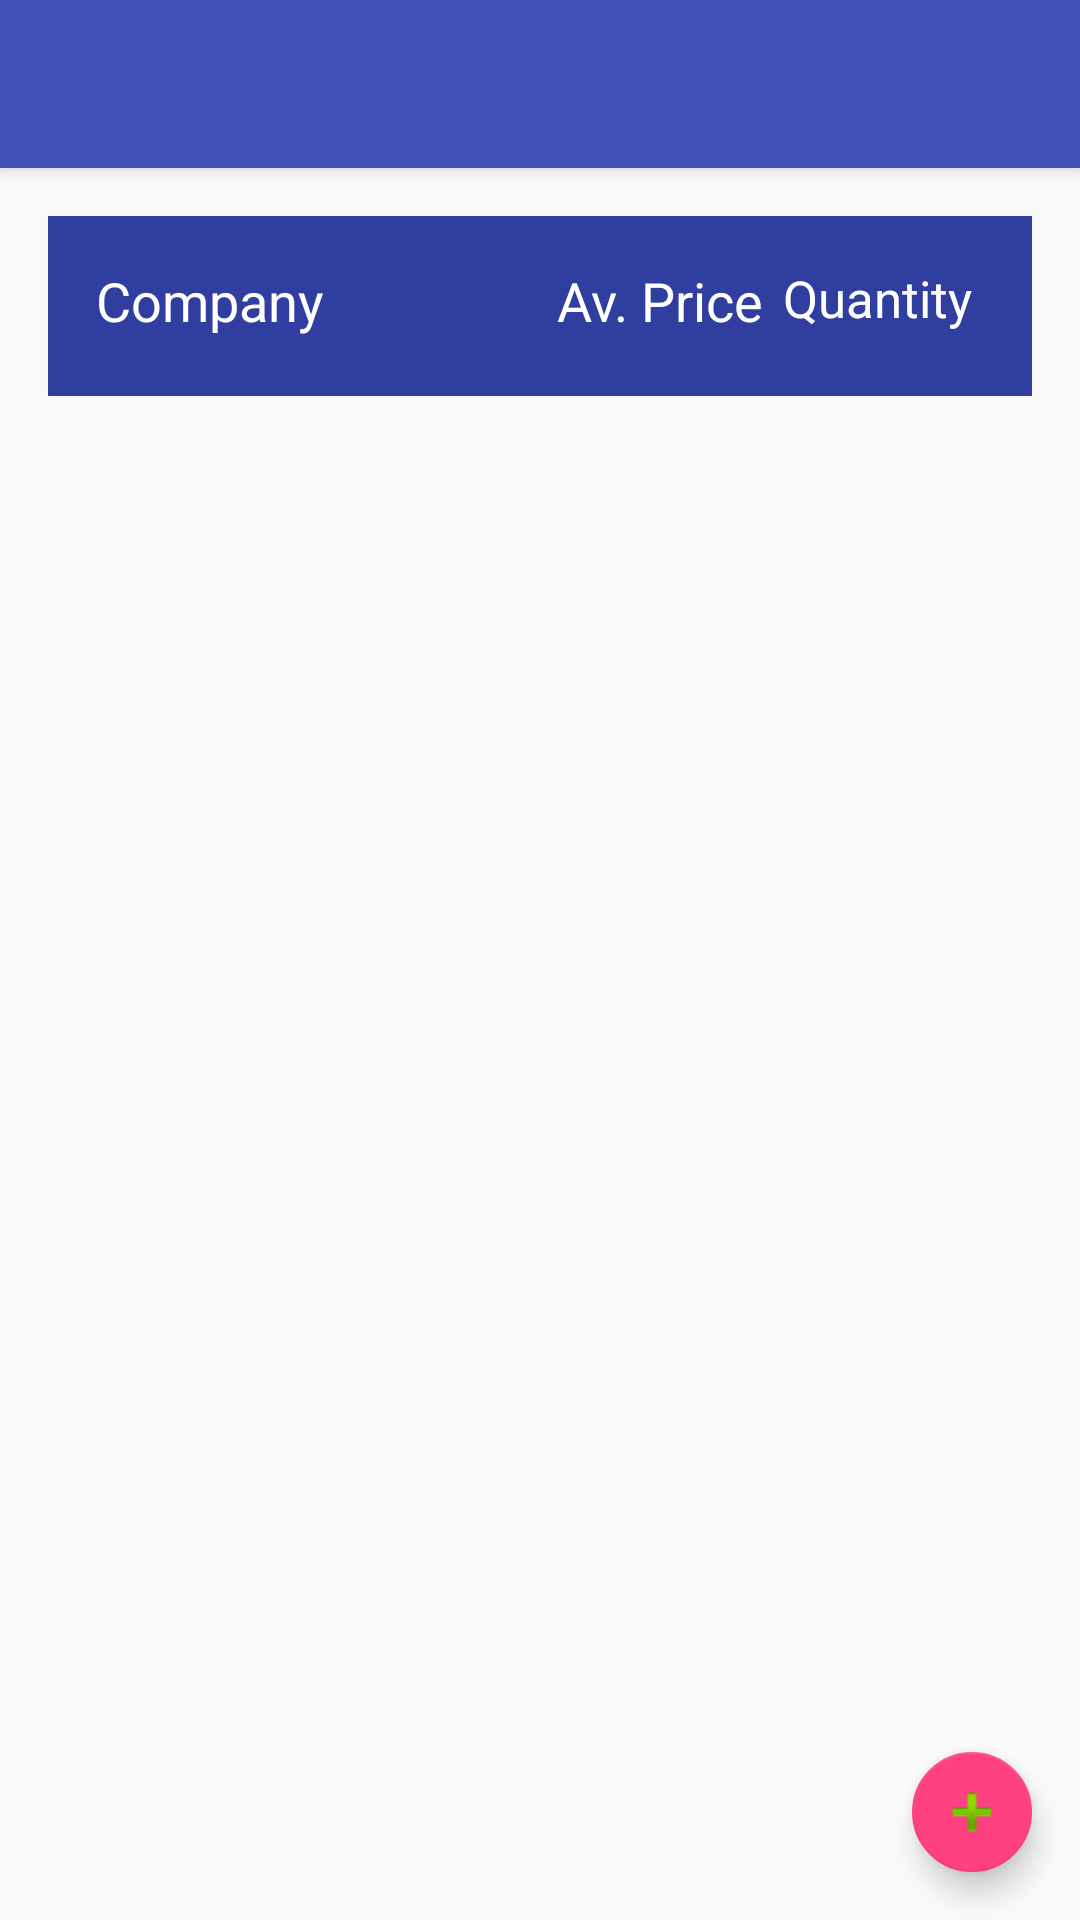

Locate icon controls on the screen. Image size 1080px x 1920px, boxes as (x1, y1, x2, y2).
add: (912, 1752, 1032, 1872)
